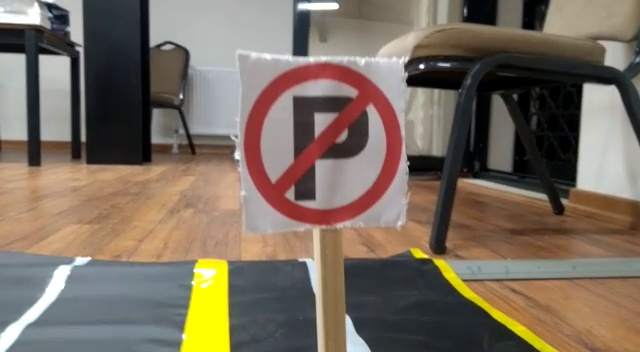park_yapilmaz: (240, 51, 402, 226)
